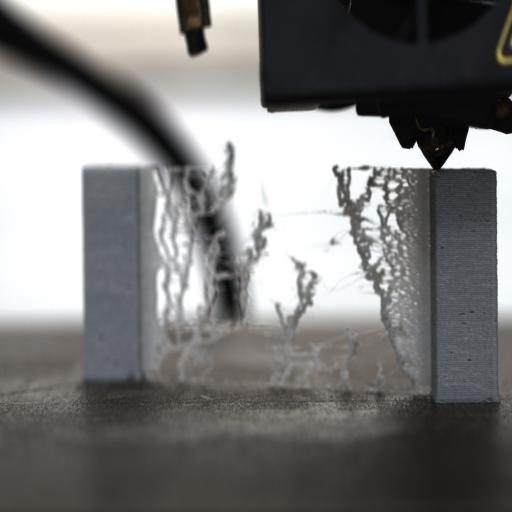stringing: (151, 139, 269, 343), (332, 168, 422, 388)
